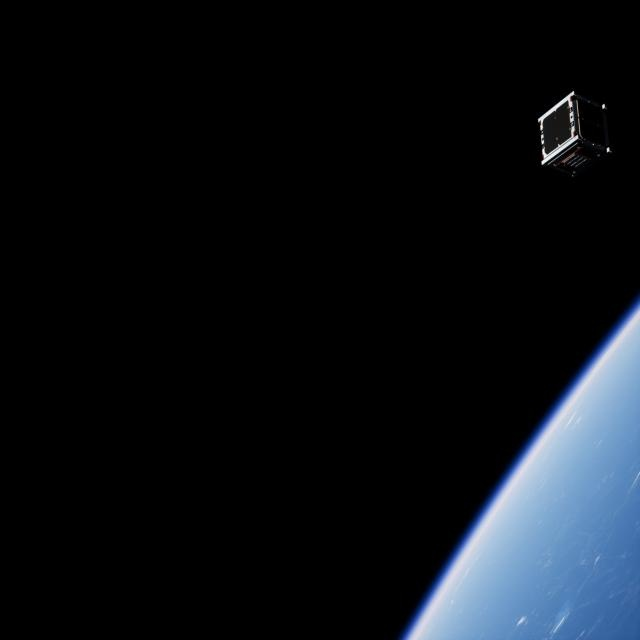satellite: (534, 88, 614, 177)
